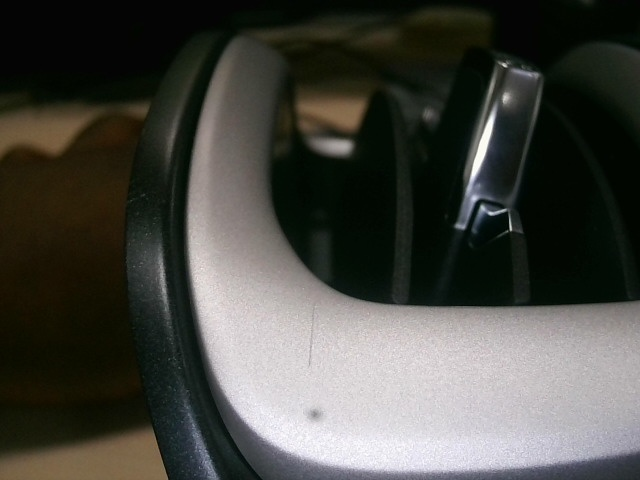NG: (296, 300, 327, 371), (120, 182, 156, 226)
